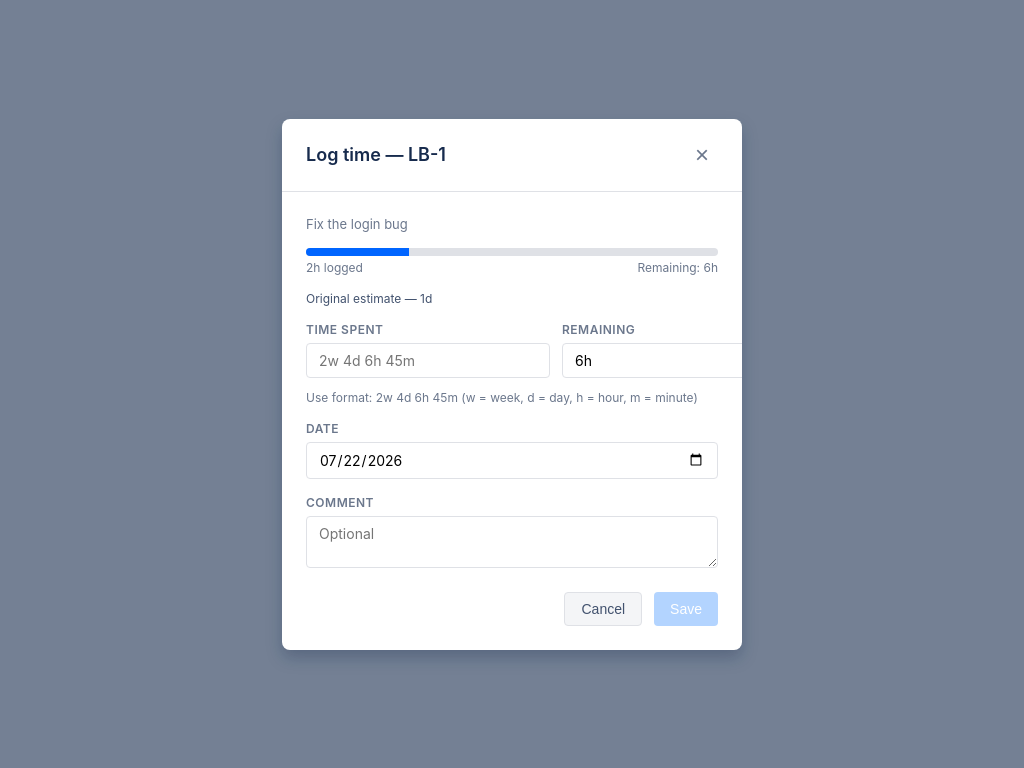
Test case: LogTimeModal › keeps submit disabled while spent has an invalid format
# Bare number without a unit is invalid
In the field labelled "Time spent": (428, 360) [306, 342, 550, 378], type "2"
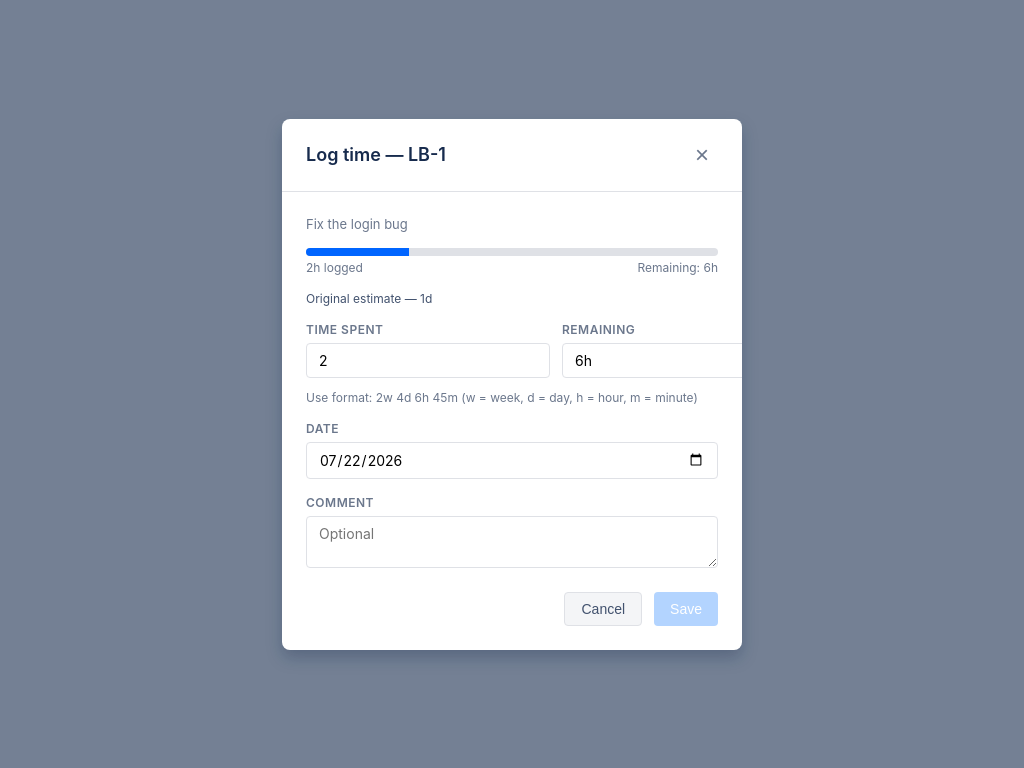
Expected: the button "Save" is disabled, [654, 592, 718, 626]
Replace the text in the field labelled "Time spent" with "2h": (428, 360) [306, 342, 550, 378]
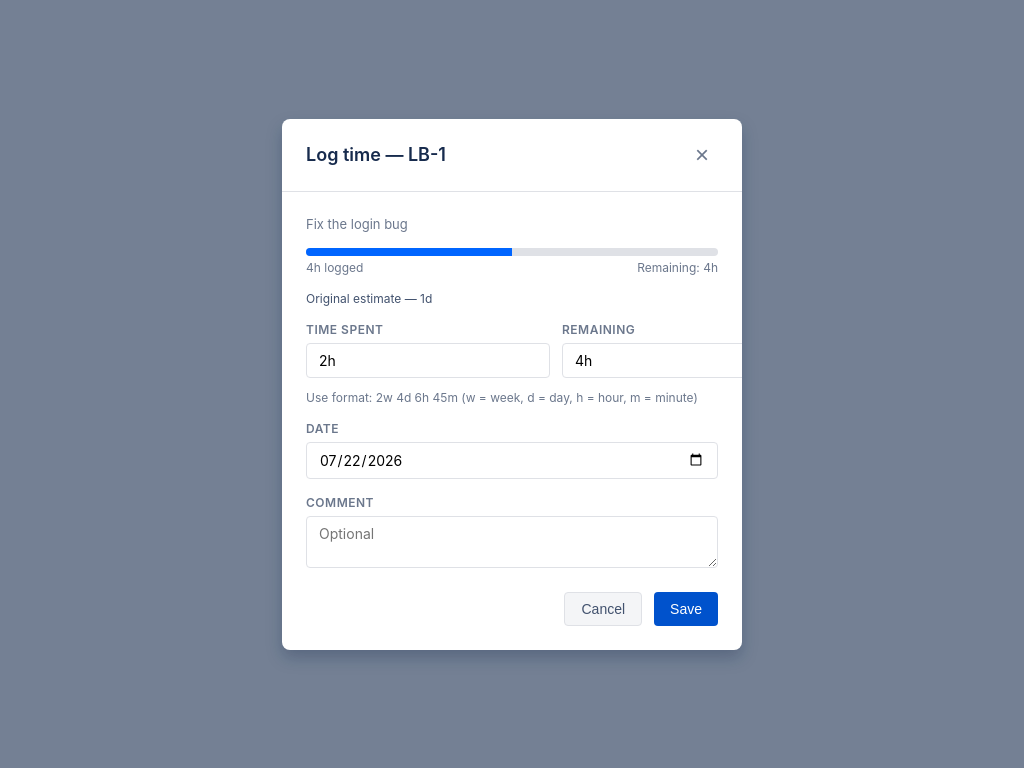
Now the button "Save" is enabled, box [654, 592, 718, 626]
